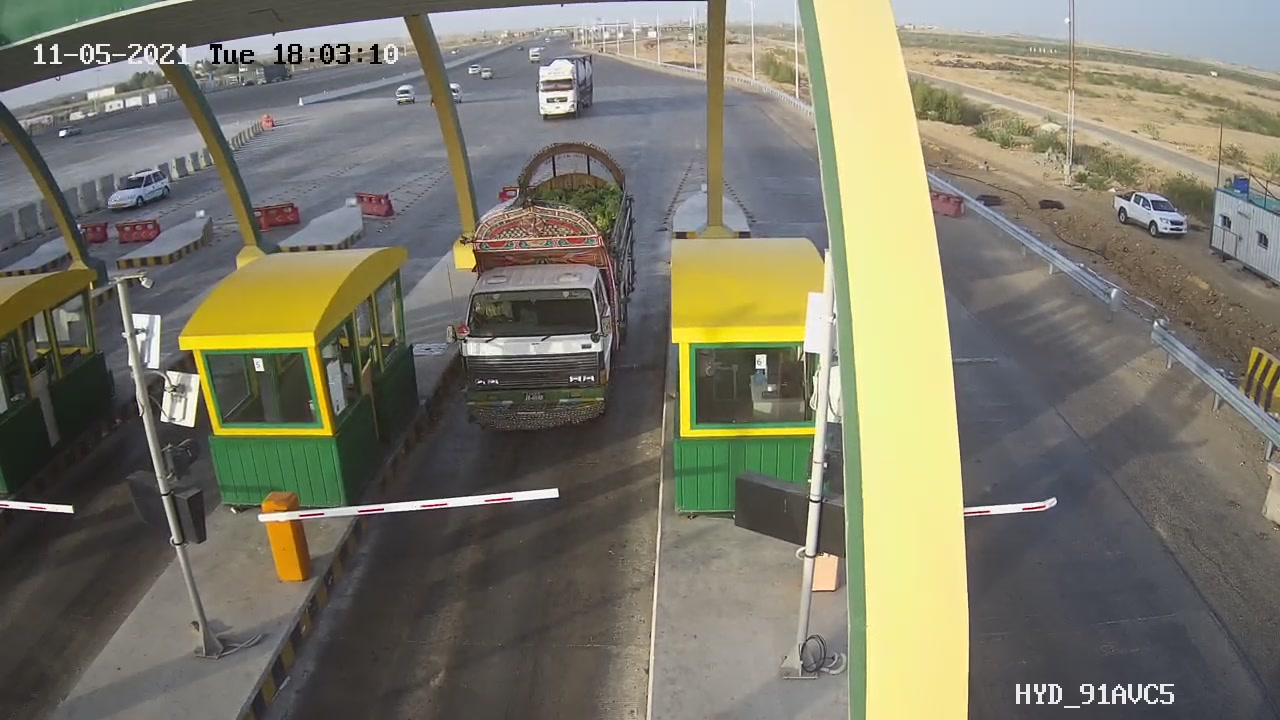F5: (425, 124, 657, 468)
